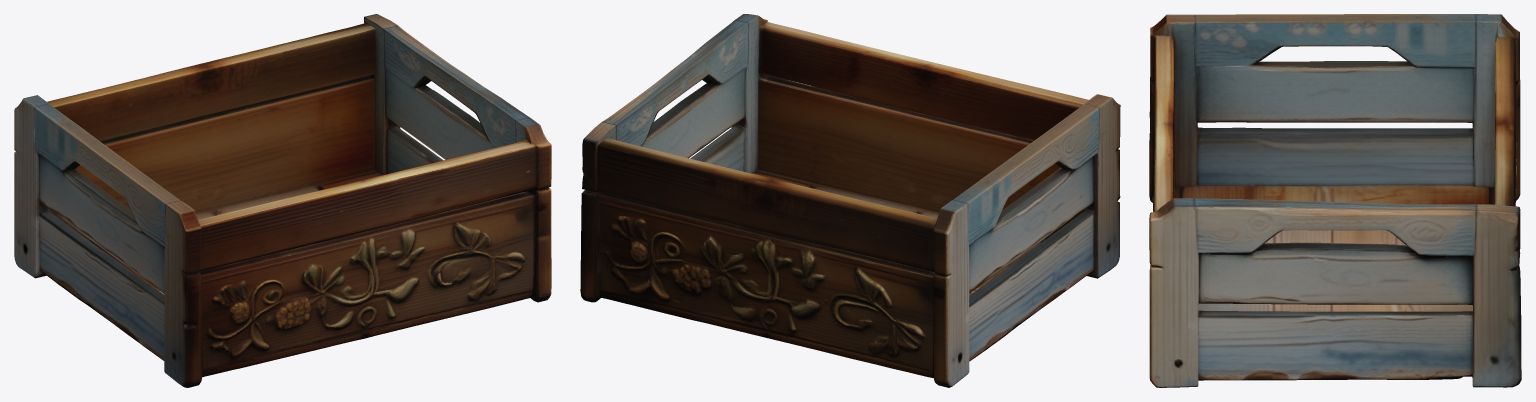
The model's file is wooden-crate-vintage.jpeg.glb.
3 views of the same model, side by side, from view 1: azimuth 30°, elevation 25°; view 2: azimuth 150°, elevation 25°; view 3: azimuth 270°, elevation 25° (orthographic). The views are drawn at different scales.
Visible parts, largest first — view 1: world; view 2: world; view 3: world.
Boxes of the visible parts, left/top/right/bottom form: world: left=14, top=14, right=551, bottom=387; world: left=580, top=14, right=1120, bottom=387; world: left=1149, top=14, right=1521, bottom=387.
Size of the model in its own units: 0.9998 by 0.4489 by 0.8218.
Materials: 1 (1 with a texture image).
